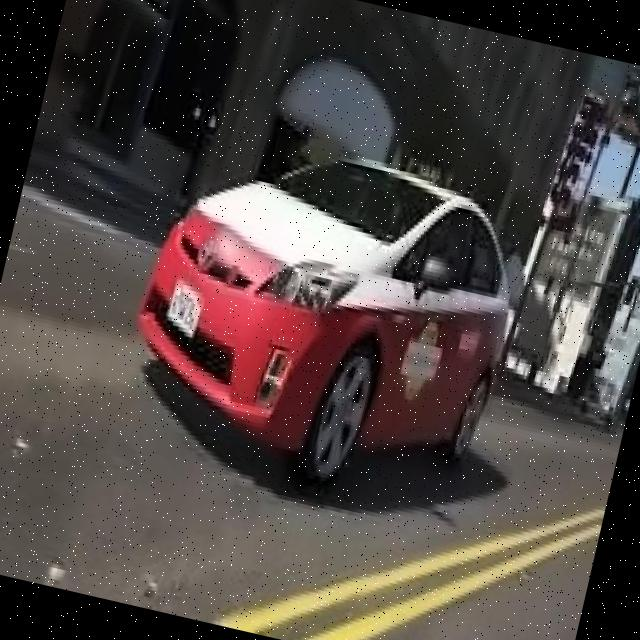License_Plate: (163, 274, 208, 338)
car: (103, 100, 575, 521)
